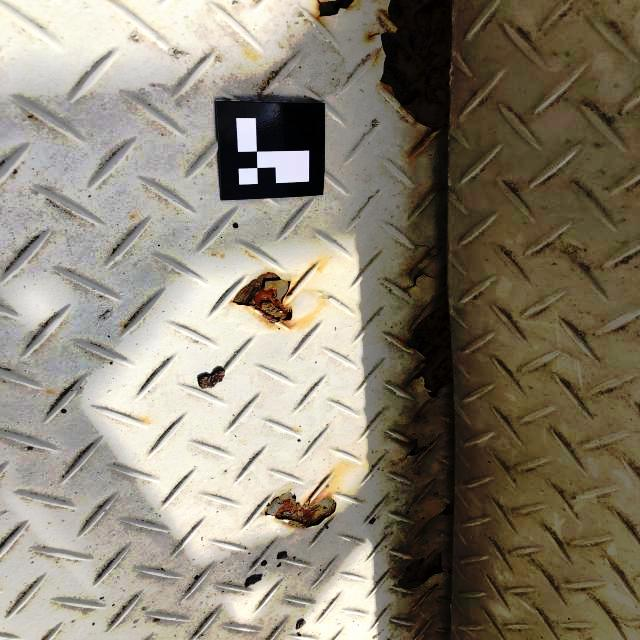Corrosion: (381, 0, 452, 129), (406, 302, 452, 398), (232, 272, 292, 324), (265, 493, 336, 528), (398, 554, 443, 591), (317, 0, 353, 15), (407, 442, 427, 457), (439, 505, 454, 516)
